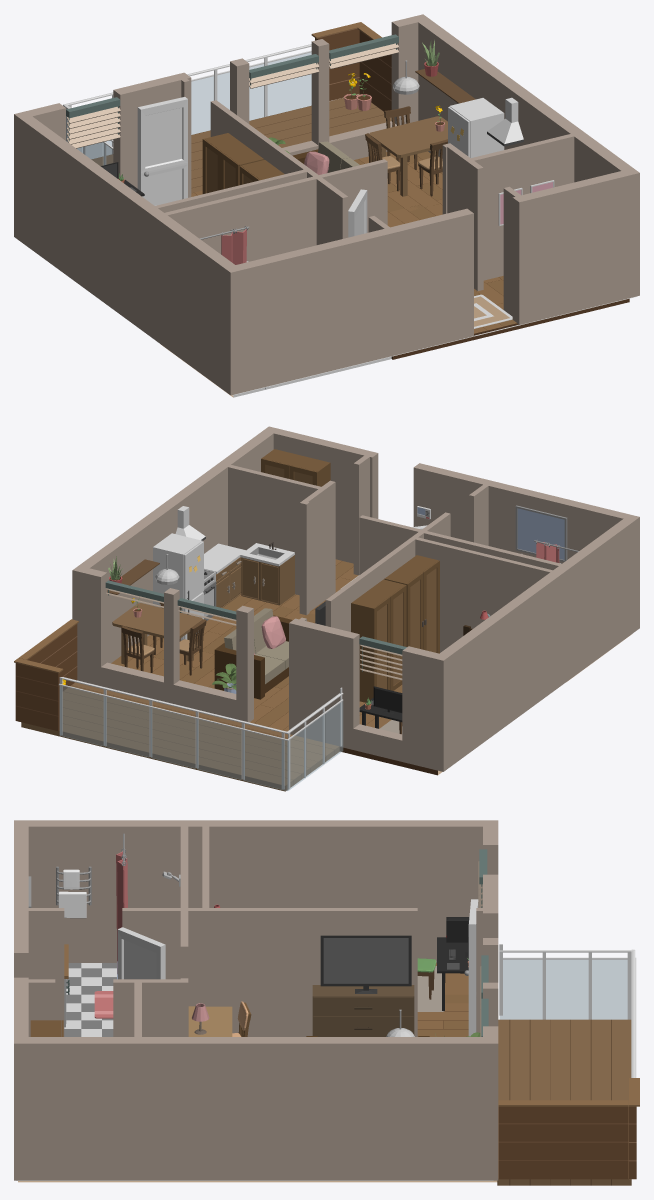
The model's file is flat_v04.glb.
3 renders of one model, top to bottom at view 1: azimuth 30°, elevation 25°; view 2: azimuth 150°, elevation 25°; view 3: azimuth 270°, elevation 25°, orthographic. The views are drawn at different scales.
Parts seen in each view (by area): view 1: walls, Door_05, Refrigerator, RoomFurniture_08.001, KitchenTable_02, Curtains_11, Floor_15.005, Floor_02.005, Floor_16.002, glassPanel_01.007, Floor_16.001, Curtains_12 (+17 smaller); view 2: walls, RoomFurniture_08.001, Floor_15.004, Floor_15.005, RoomFurniture_08, Sofa_01, KitchenTabletop1_02, Refrigerator, Floor_16.001, glassPanel_01.006, glassPanel_01.007, glassPanel_01.004 (+30 smaller); view 3: walls, Floor_16.002, Floor_15.004, RoomFurniture_07, TV, Floor_15.001, glassPanel_01.001, glassPanel_01, Door_05.001, glassPanel_01.002, Floor_02.007, Floor_27.001 (+15 smaller).
Boxes of the visible parts, left/top/right/bottom form: walls: left=14, top=14, right=639, bottom=395; Door_05: left=137, top=97, right=187, bottom=205; Refrigerator: left=448, top=98, right=504, bottom=157; RoomFurniture_08.001: left=202, top=133, right=263, bottom=193; KitchenTable_02: left=369, top=116, right=447, bottom=196; Curtains_11: left=66, top=97, right=120, bottom=148; Floor_15.005: left=196, top=105, right=357, bottom=147; Floor_02.005: left=354, top=151, right=442, bottom=216; Floor_16.002: left=359, top=31, right=391, bottom=111; glassPanel_01.007: left=267, top=52, right=311, bottom=115; Floor_16.001: left=315, top=28, right=359, bottom=100; Curtains_12: left=249, top=54, right=319, bottom=88; walls: left=72, top=426, right=639, bottom=771; RoomFurniture_08.001: left=351, top=579, right=406, bottom=702; Floor_15.004: left=170, top=734, right=318, bottom=791; Floor_15.005: left=56, top=706, right=202, bottom=763; RoomFurniture_08: left=384, top=555, right=439, bottom=653; Sofa_01: left=214, top=608, right=292, bottom=699; KitchenTabletop1_02: left=240, top=541, right=294, bottom=605; Refrigerator: left=153, top=533, right=203, bottom=640; Floor_16.001: left=15, top=663, right=61, bottom=731; glassPanel_01.006: left=104, top=696, right=149, bottom=757; glassPanel_01.007: left=59, top=685, right=104, bottom=746; glassPanel_01.004: left=197, top=719, right=241, bottom=779; walls: left=14, top=820, right=498, bottom=1180; Floor_16.002: left=498, top=1106, right=628, bottom=1179; Floor_15.004: left=550, top=1019, right=631, bottom=1088; RoomFurniture_07: left=312, top=985, right=414, bottom=1036; TV: left=320, top=935, right=411, bottom=993; Floor_15.001: left=498, top=1019, right=550, bottom=1088; glassPanel_01.001: left=546, top=959, right=588, bottom=1019; glassPanel_01: left=499, top=959, right=542, bottom=1019; Door_05.001: left=117, top=927, right=165, bottom=979; glassPanel_01.002: left=592, top=959, right=627, bottom=1019; Floor_02.007: left=417, top=977, right=468, bottom=1036; Floor_27.001: left=64, top=977, right=101, bottom=1036.
Size of the model in its own units: 14.61 by 4.39 by 17.27.
Materials: 5 (2 with a texture image).
